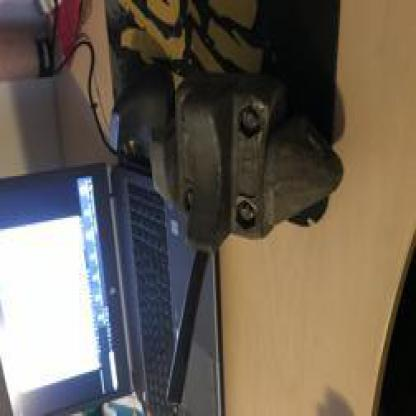Twistlock: (137, 51, 345, 412)
